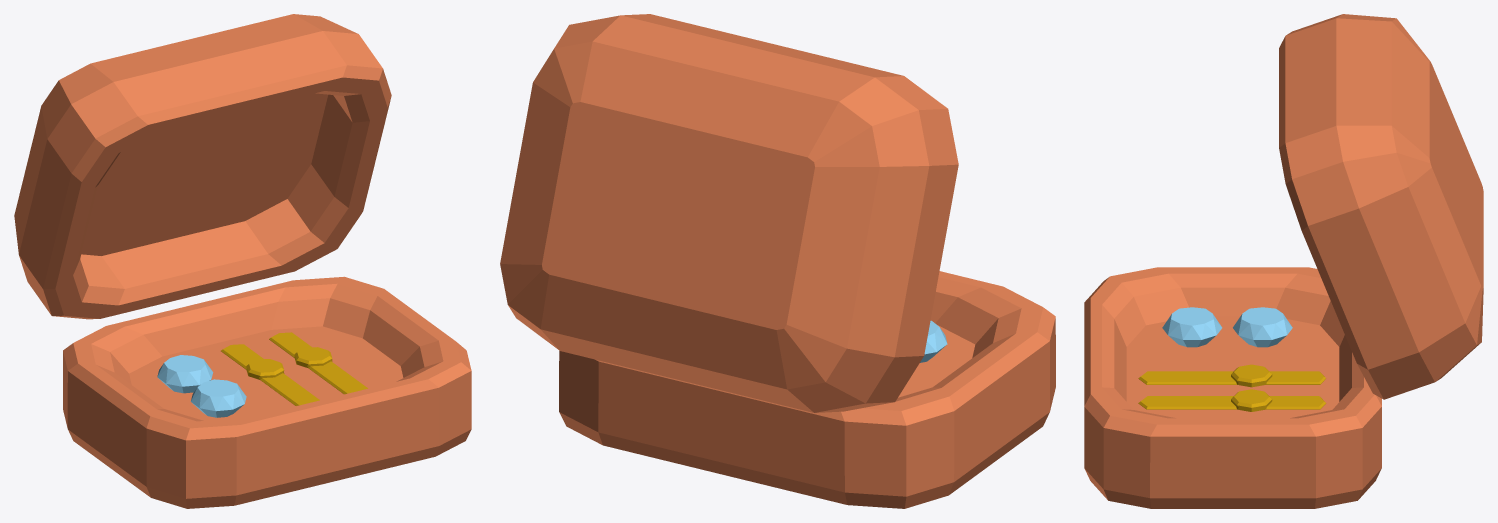
Rendered from JewelryBox.fbx.
3 renders of one model, left to right at view 1: azimuth 30°, elevation 25°; view 2: azimuth 150°, elevation 25°; view 3: azimuth 270°, elevation 25°, orthographic. The views are drawn at different scales.
Parts seen in each view (by area): view 1: JewelryBox; view 2: JewelryBox; view 3: JewelryBox.
Part boxes in pixels (x1=…): JewelryBox: x1=14, y1=14, x2=471, y2=508; JewelryBox: x1=500, y1=14, x2=1055, y2=508; JewelryBox: x1=1084, y1=14, x2=1483, y2=508.
Size of the model in its own units: 0.2087 by 0.2146 by 0.2141.
Materials: 1 (1 with a texture image).
